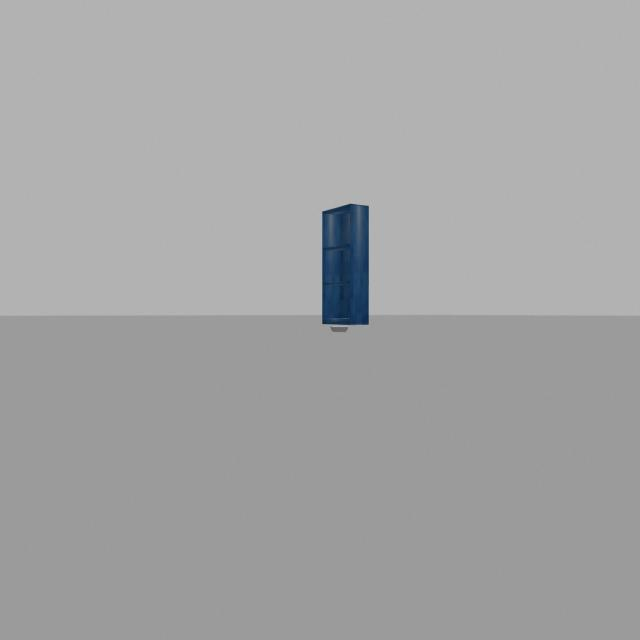bowl: (327, 320, 352, 332)
shelf: (318, 183, 379, 326)
